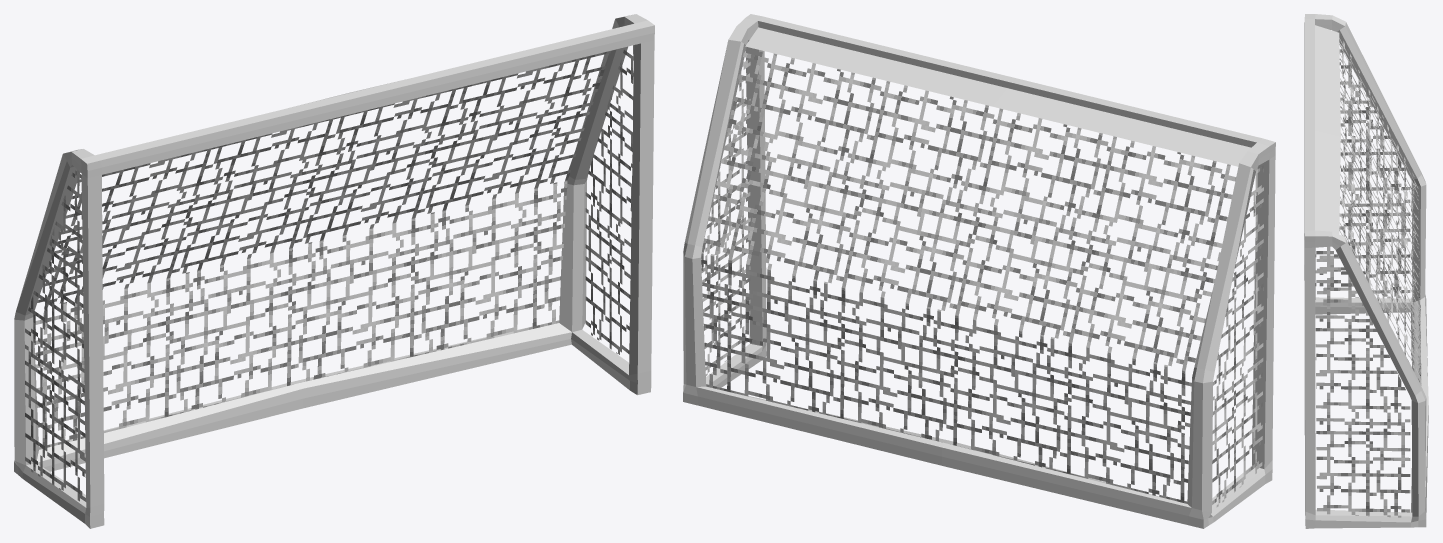
File: netmodel.glb
The picture shows the model from 3 angles, left to right: view 1: azimuth 30°, elevation 25°; view 2: azimuth 150°, elevation 25°; view 3: azimuth 270°, elevation 25°; orthographic projection. The views are drawn at different scales.
Visible parts, largest first — view 1: Cube; view 2: Cube; view 3: Cube.
Boxes of the visible parts, x1,y1,x2,y2 form: Cube: (14, 14, 654, 528); Cube: (683, 14, 1275, 528); Cube: (1304, 14, 1428, 528).
Bounding box in the file's own units: 16.59 × 10.15 × 3.88.
Materials: 2 (1 with a texture image).
